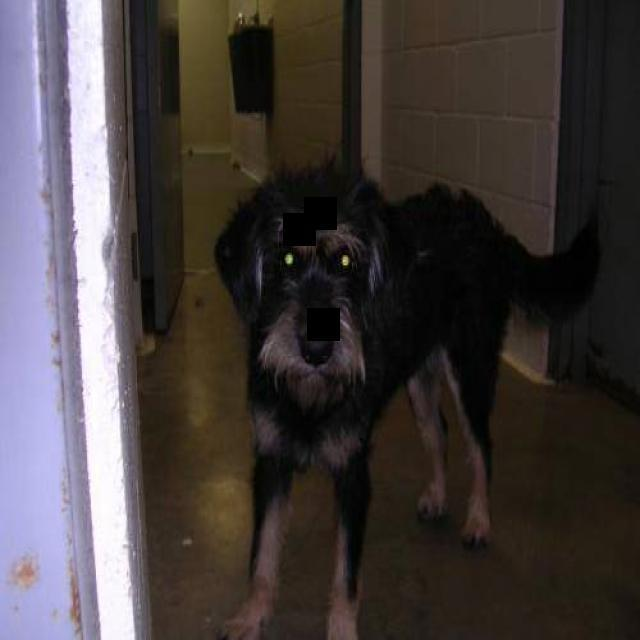adult_dog: (209, 155, 607, 640)
